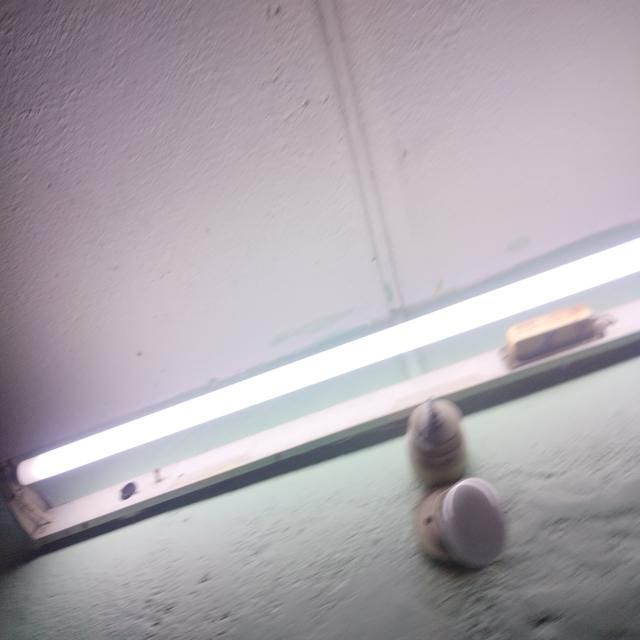tubelight_on: (0, 225, 640, 565)
